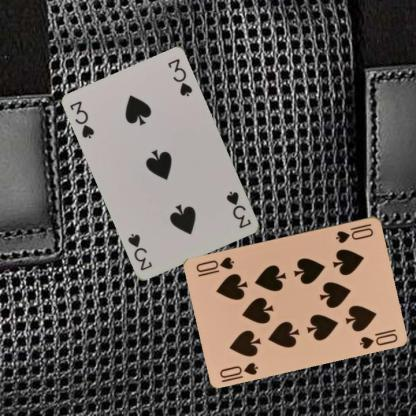10s: (333, 221, 375, 244), (217, 359, 260, 379)
3s: (224, 188, 253, 230), (67, 98, 96, 140)
